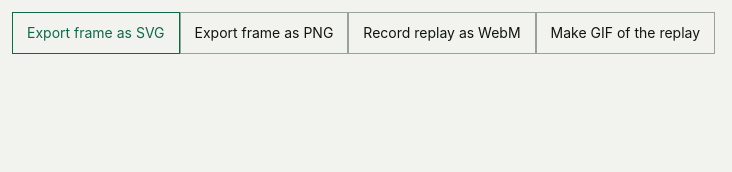
with the switch on › says a browser with no WebM recording cannot, and saves nothing
The image size is (732, 172).
Click the button "Record replay as WebM" at (442, 33), box 348,12 -> 536,54
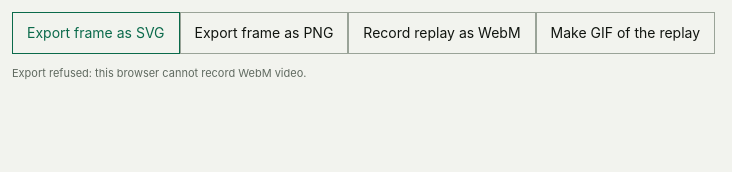
Now the message reads "Export refused: this browser cannot record WebM video.", box 12,66 -> 306,80
